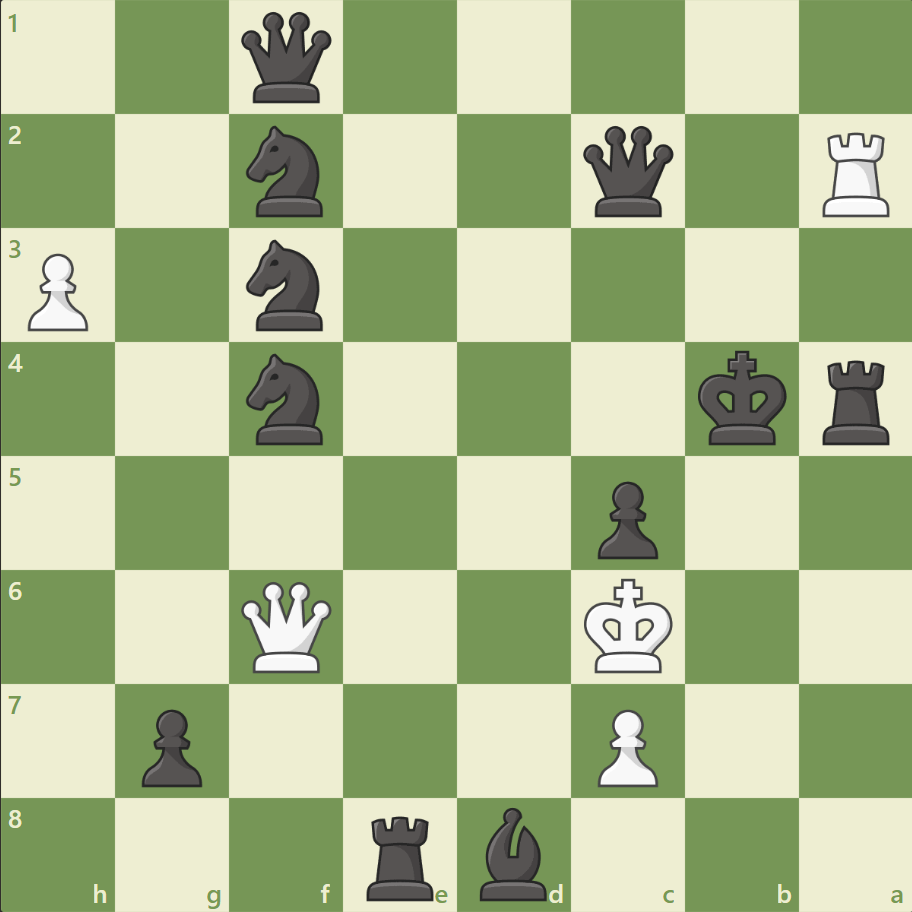K: (579, 571, 679, 679)
P: (20, 246, 95, 337), (588, 700, 662, 791)
Q: (237, 576, 336, 676)
R: (814, 125, 897, 222)
b: (471, 801, 555, 904)
k: (692, 344, 792, 452)
n: (238, 234, 335, 337), (238, 348, 335, 450), (238, 121, 335, 223)
p: (133, 700, 208, 791), (588, 473, 662, 564)
q: (578, 122, 677, 222), (237, 9, 336, 108)
r: (814, 352, 897, 449), (360, 806, 442, 904)
